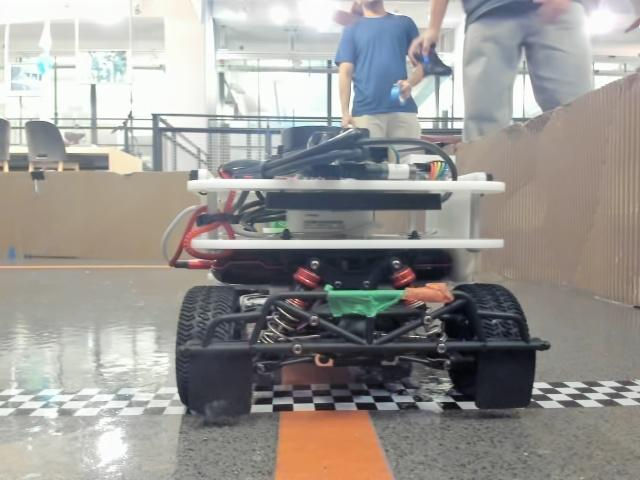Car: (177, 124, 536, 415)
